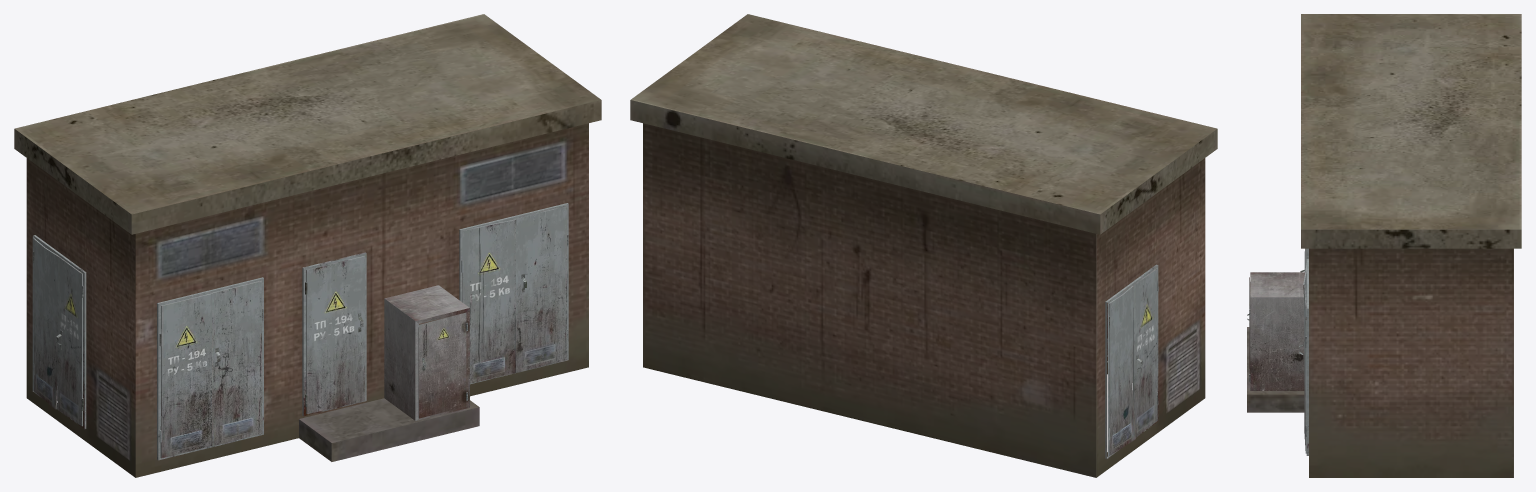
The model's file is transformer-booth.zfix-v14.lod0.glb.
3 renders of one model, left to right at view 1: azimuth 30°, elevation 25°; view 2: azimuth 150°, elevation 25°; view 3: azimuth 270°, elevation 25°, orthographic. The views are drawn at different scales.
Visible parts, largest first — view 1: transform_low_brick_0, transform_low_metal_0; view 2: transform_low_brick_0, transform_low_metal_0; view 3: transform_low_brick_0, transform_low_metal_0.
Boxes of the visible parts, x1,y1,x2,y2 form: transform_low_brick_0: [14, 14, 601, 477]; transform_low_metal_0: [32, 203, 568, 460]; transform_low_brick_0: [630, 14, 1217, 477]; transform_low_metal_0: [1105, 264, 1158, 458]; transform_low_brick_0: [1247, 14, 1521, 477]; transform_low_metal_0: [1247, 248, 1308, 455].
Size of the model in its own units: 8 by 4.37 by 4.32.
2 materials, 2 textured.
